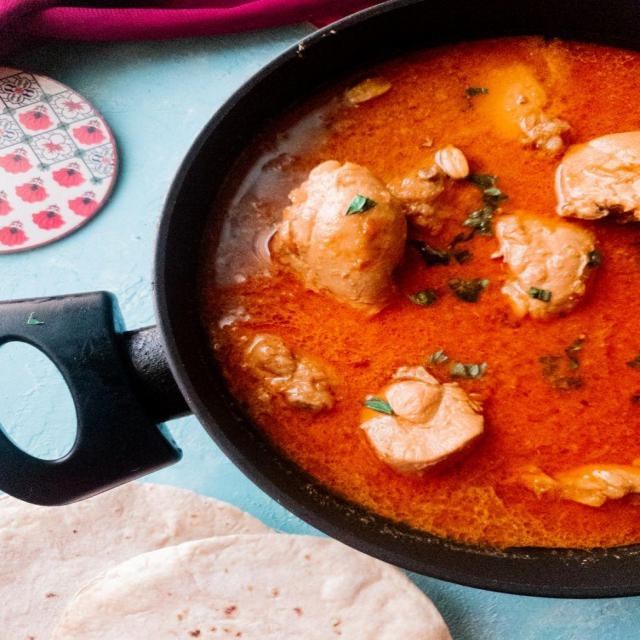chicken: (206, 22, 640, 550)
roti: (23, 504, 413, 640)
